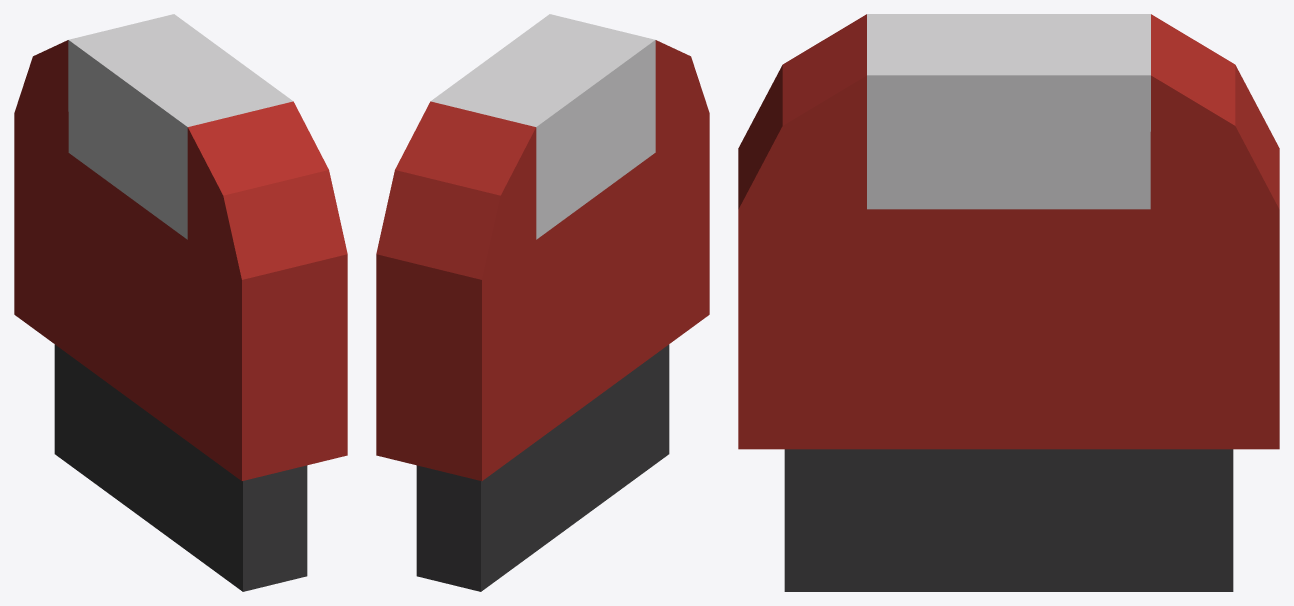
File: SM_Stamper_01.glb
3 views of the same model, side by side, from view 1: azimuth 30°, elevation 25°; view 2: azimuth 150°, elevation 25°; view 3: azimuth 270°, elevation 25° (orthographic). The views are drawn at different scales.
Visible parts, largest first — view 1: SM_Stamper_01; view 2: SM_Stamper_01; view 3: SM_Stamper_01.
Boxes of the visible parts, box(x1,y1,x2,y2) form: SM_Stamper_01: box(14, 14, 347, 591); SM_Stamper_01: box(376, 14, 709, 591); SM_Stamper_01: box(738, 14, 1279, 591).
Bounding box in the file's own units: 0.0272 × 0.1091 × 0.1012.
Materials: 1 (1 with a texture image).
